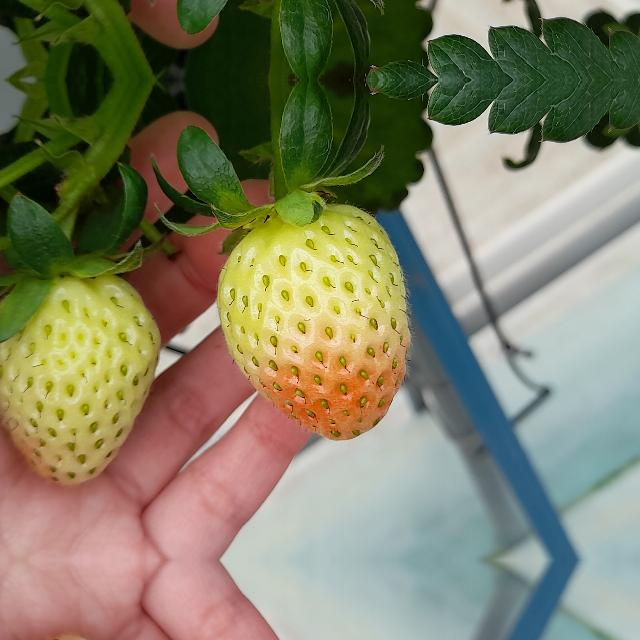Health_25: (0, 263, 164, 487)
Health_50: (216, 202, 410, 440)
